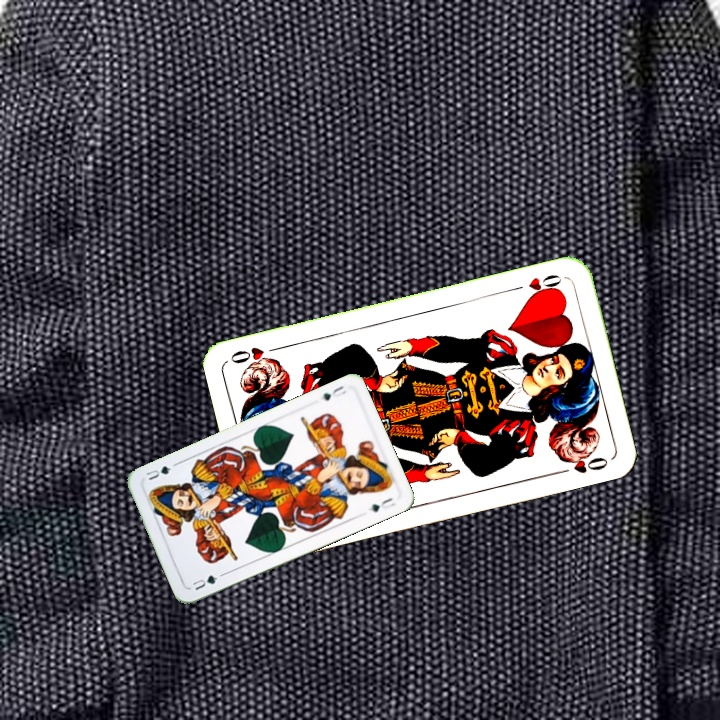GU: (188, 571, 220, 593), (316, 382, 349, 403)
HO: (508, 270, 564, 300)
